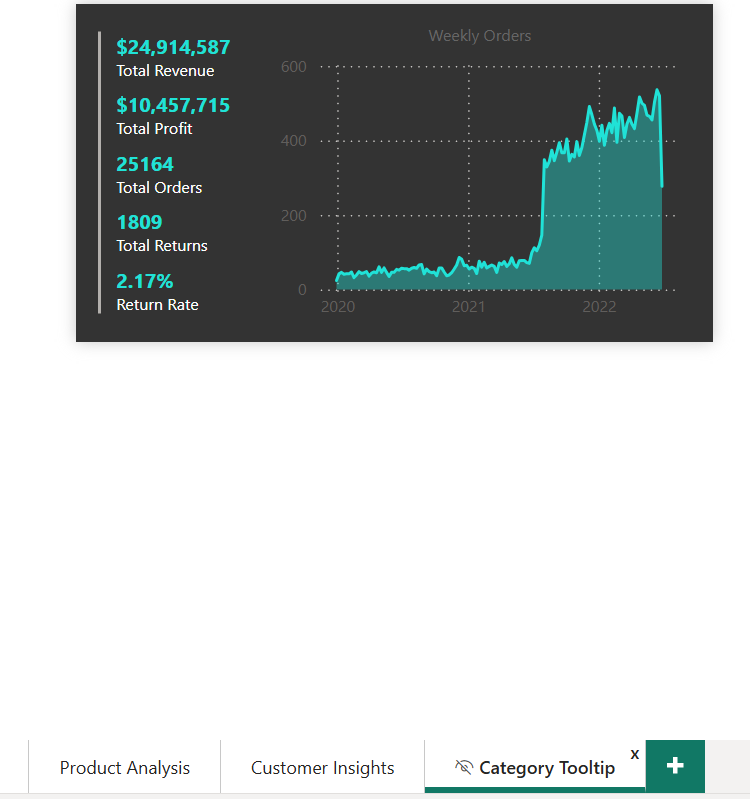

The page's visual inventory and layout, read from the dashboard file:
{"tool":"powerbi","page":{"name":"Category Tooltip","canvas":[425,225],"ordinal":4},"visuals":[{"type":"multiRowCard","fields":{"Values":["Measure Table.Total Revenue","Measure Table.Total Profit","Measure Table.Total Orders","Measure Table.Total Returns","Measure Table.Return Rate"]},"box":[10,13,136,205],"z":0},{"type":"areaChart","title":"Weekly Orders","fields":{"Category":["Calendar Lookup.Start of Week"],"Y":["Measure Table.Total Orders"]},"box":[131,13,277,205],"z":1000}]}

Visuals, with their boxes on the page's 425x225 design canvas (x1, y1, x2, y2). These are canvas units, not pixel positions in the 750x799 screenshot, which may show the page scaled, cropped or inside an application window:
multiRowCard - Measure Table.Total Revenue x Measure Table.Total Profit: 10, 13, 146, 218
"Weekly Orders" areaChart: 131, 13, 408, 218
